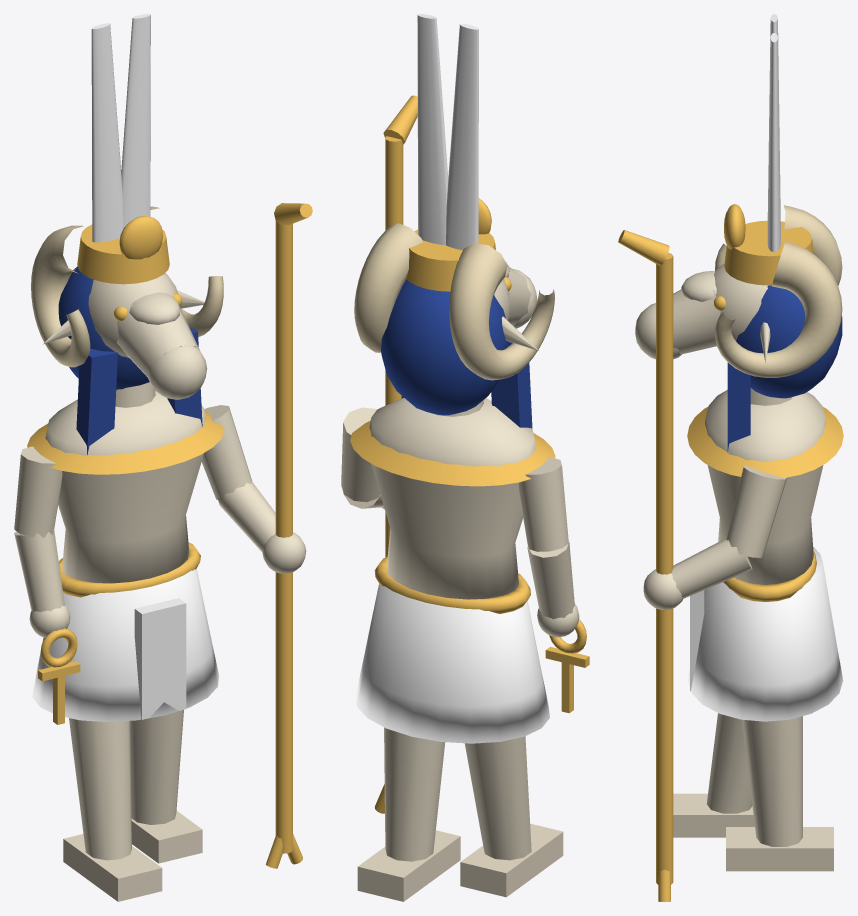
File: god-amun.glb
3 renders of one model, left to right at view 1: azimuth 30°, elevation 25°; view 2: azimuth 150°, elevation 25°; view 3: azimuth 270°, elevation 25°, orthographic. The views are drawn at different scales.
Parts seen in each view (by area): view 1: figurka; view 2: figurka; view 3: figurka.
Part boxes in pixels (x1,y1,x2,y2): figurka: [14, 14, 312, 901]; figurka: [341, 14, 589, 901]; figurka: [618, 14, 843, 901].
Bounding box in the file's own units: 0.3729 × 1.25 × 0.3132.
